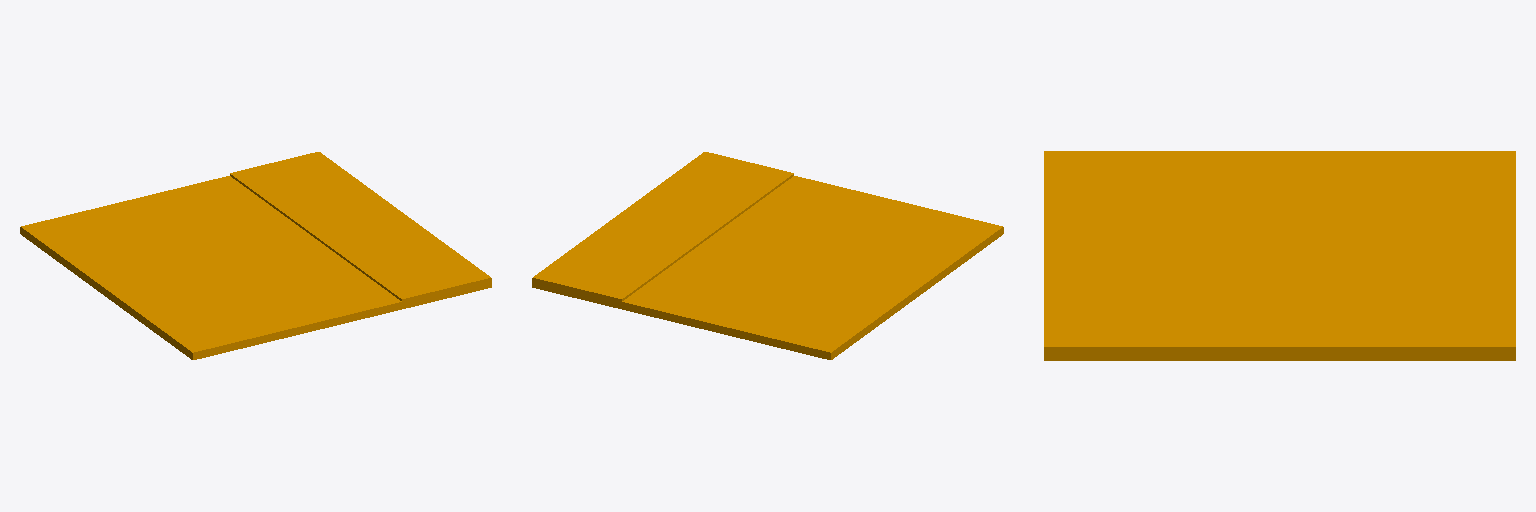
The robot description file, URDF, robot "step_floor":
<robot name="step_floor">
    <link name="step_floor">
	    <visual>
	      <origin rpy="0.0 0.0 0.0" xyz="0.0 0.0 0.0"/>
	      <geometry>
	        <mesh filename="step.stl" scale="0.001 0.001 0.001"/>
	      </geometry>
	    </visual>
    </link>
</robot>

--- What the picture shows (computed from the rendered views, not written in the file) ---
Views: 3 orthographic renders of the robot side by side, from view 1: azimuth 30°, elevation 25°; view 2: azimuth 150°, elevation 25°; view 3: azimuth 270°, elevation 25°.
Robot: step_floor — 1 links, 0 joints (none); root link step_floor; default pose: every joint at zero.
Links seen in each view (by area): view 1: step_floor; view 2: step_floor; view 3: step_floor.
Boxes of the visible links, x1,y1,x2,y2 form: step_floor: (20,152,491,359); step_floor: (532,152,1003,359); step_floor: (1044,151,1515,360).
Size in the robot's own frame: 20 by 20 by 0.65 metres.
1 mesh visuals loaded from 1 distinct referenced files (1 binary STL).
